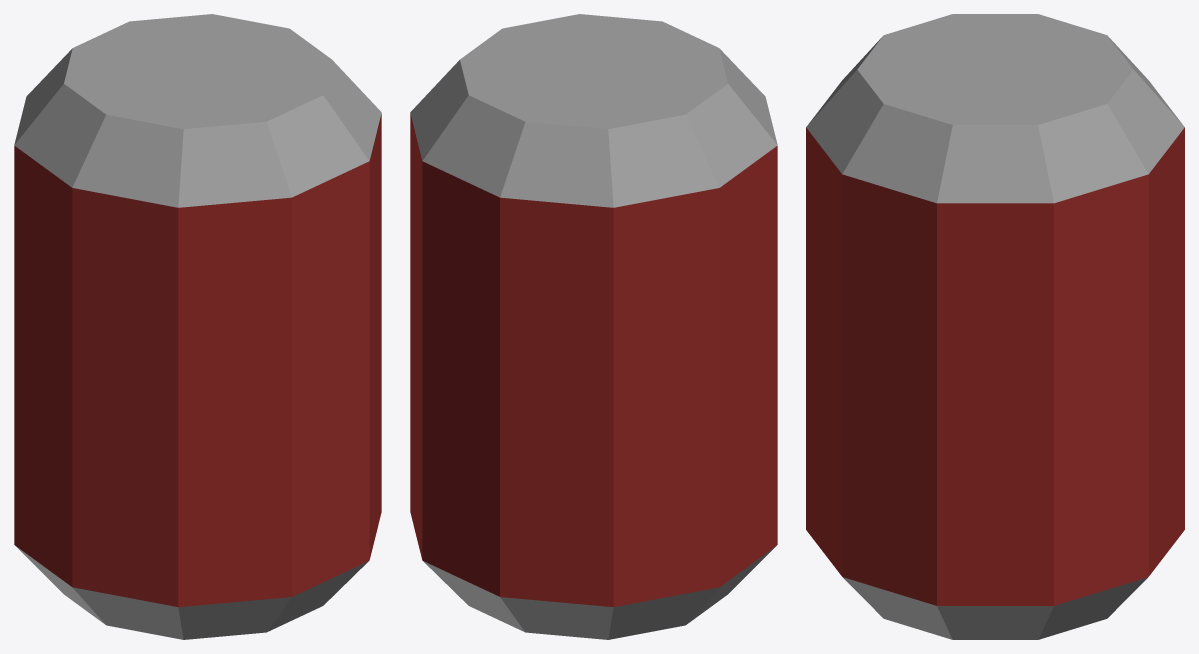
File: can1.fbx
3 renders of one model, left to right at view 1: azimuth 30°, elevation 25°; view 2: azimuth 150°, elevation 25°; view 3: azimuth 270°, elevation 25°, orthographic.
Visible parts, largest first — view 1: Cylinder; view 2: Cylinder; view 3: Cylinder.
Part boxes in pixels (box(x1,y1,x2,y2)): Cylinder: box(14, 14, 381, 639); Cylinder: box(410, 14, 777, 639); Cylinder: box(806, 14, 1184, 639).
Size of the model in its own units: 19.02 by 30 by 20.
